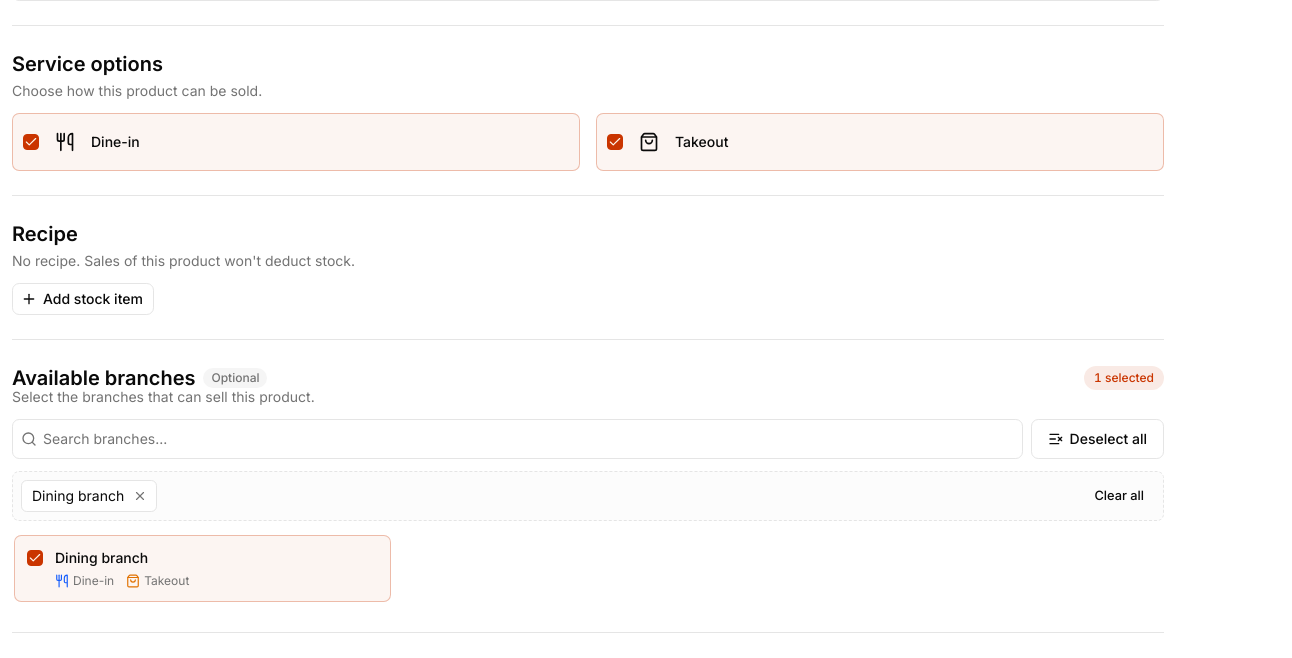
simple product form › keeps an incomplete recipe line as a draft with a field error
(page scrolled)
Click the button "Add stock item": (83, 299) [12,283,154,315]
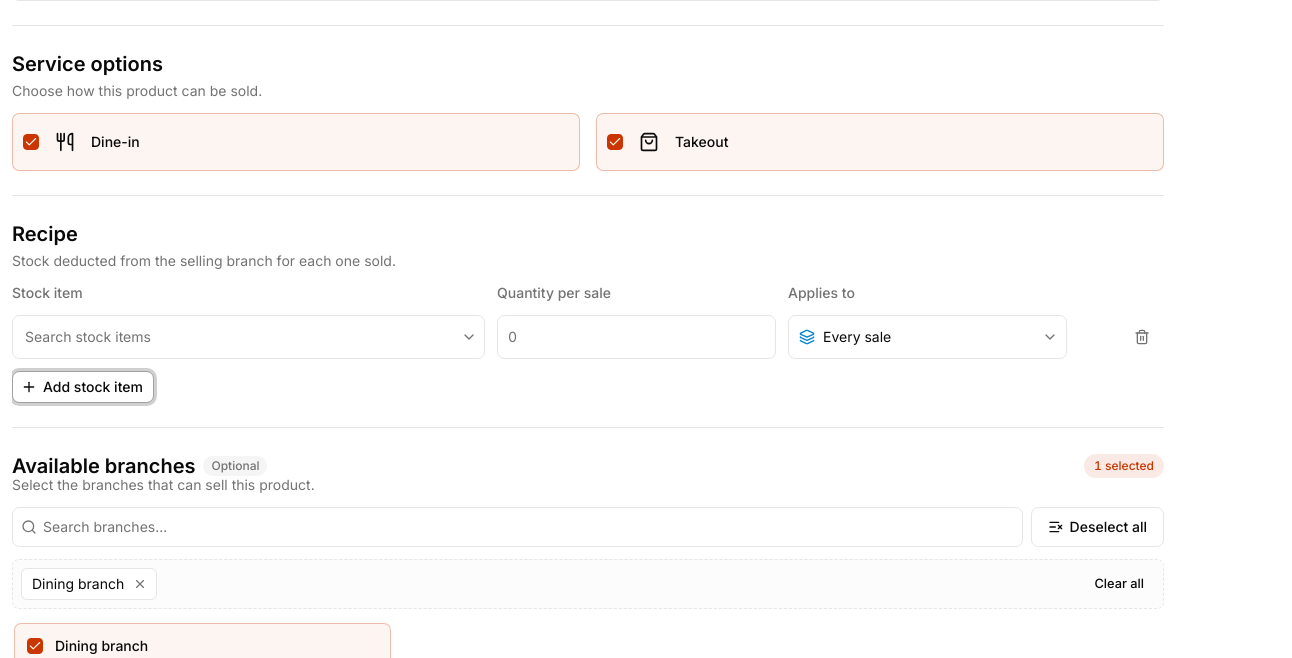
In the field named "Quantity per sale, line 1": (636, 337) [498,321,775,353], type "1"
(page scrolled)
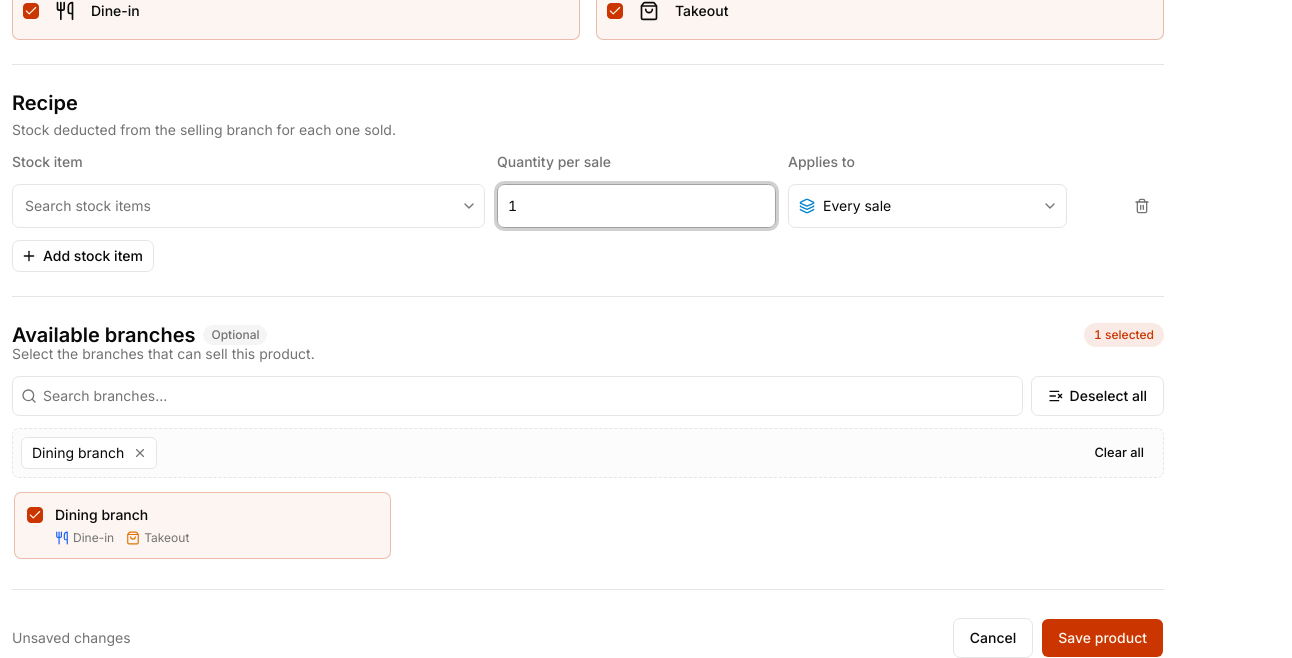
Click the button "Save product": (1103, 638) [1041,618,1164,657]
(page scrolled)
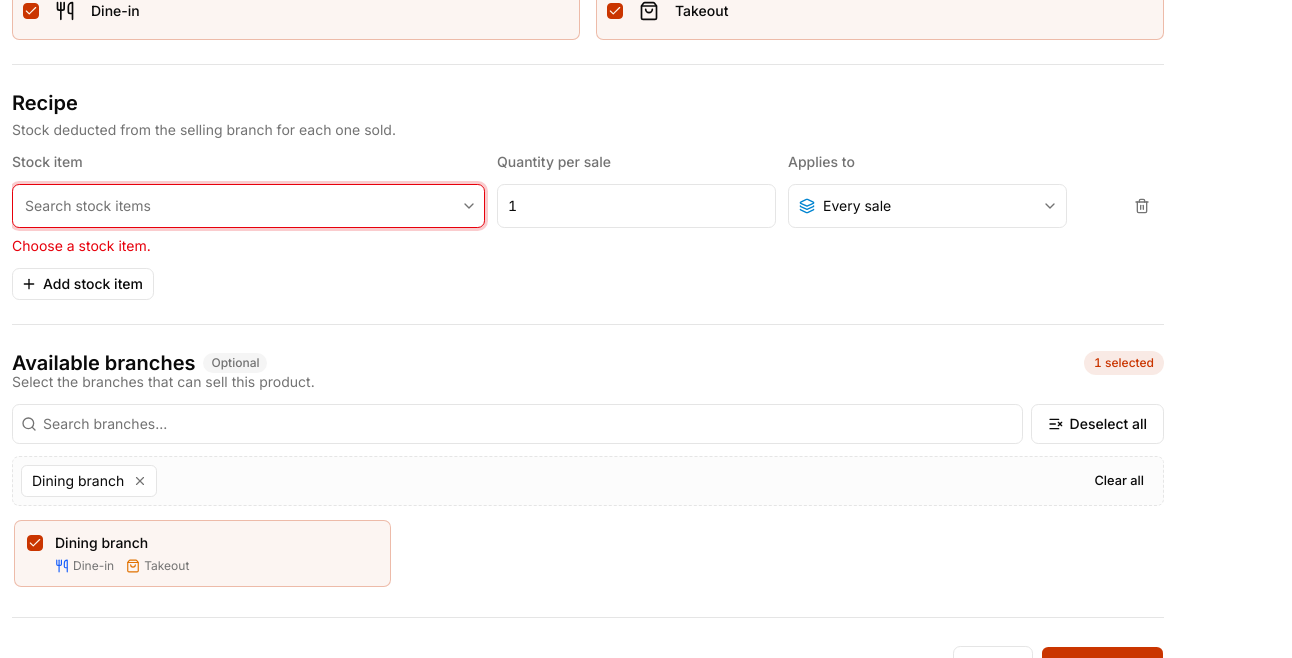
Check: the text "Choose a stock item." is shown, box [12,237,151,254]
